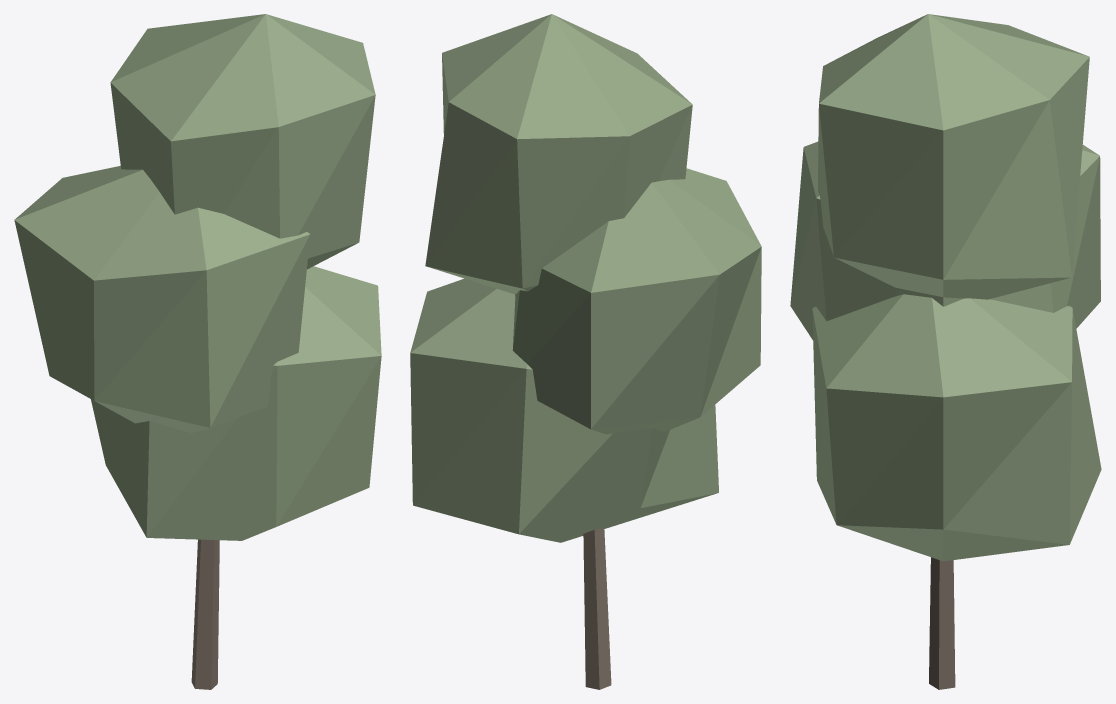
The picture shows the model from 3 angles, left to right: view 1: azimuth 30°, elevation 25°; view 2: azimuth 150°, elevation 25°; view 3: azimuth 270°, elevation 25°; orthographic projection. The views are drawn at different scales.
Size of the model in its own units: 2.62 by 5.02 by 2.03.
